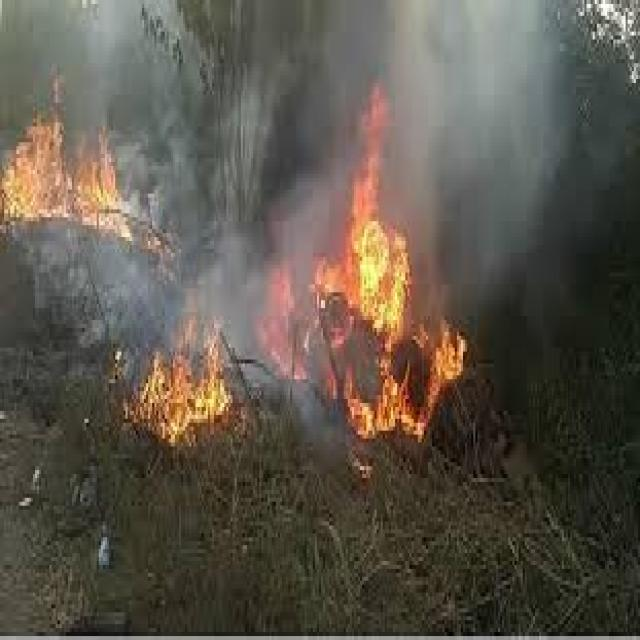fire: (344, 83, 416, 344), (2, 111, 132, 249), (117, 320, 239, 454), (344, 332, 471, 438)
smoke: (264, 4, 580, 320), (130, 118, 261, 328)
